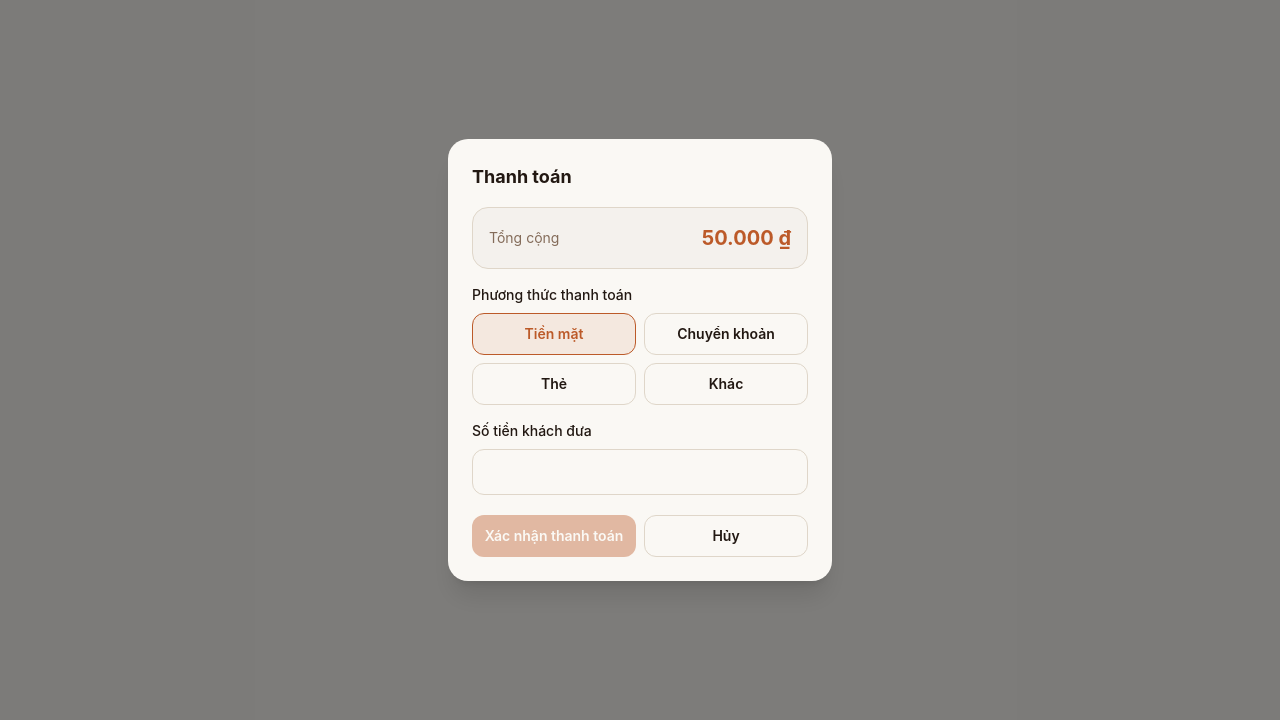
Test: PaymentModal – payment lifecycle (Task 2.10) › confirm button is enabled when cash tender >= orderTotal
The width and height of the screenshot is (1280, 720).
Step 1. Type "60000" into the number field → {"x": 640, "y": 472}, box [472,449,808,495]
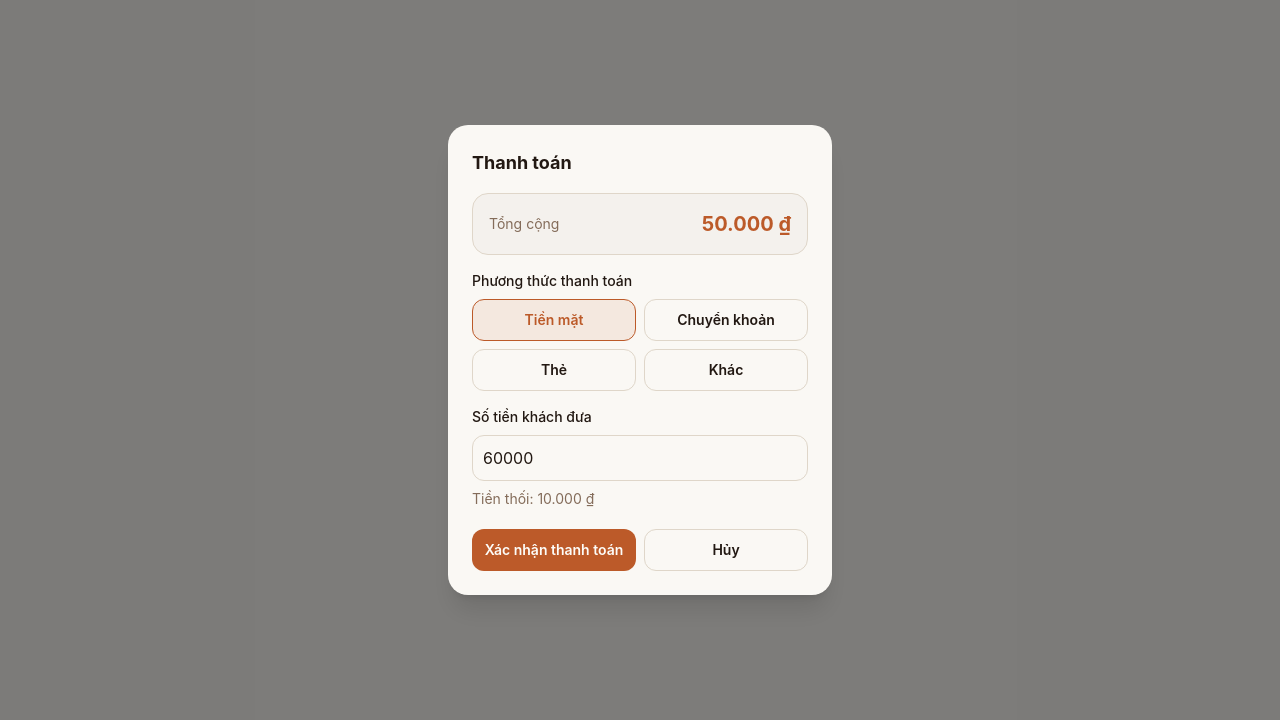
Now the button "Xác nhận thanh toán" is enabled, box [472,529,636,571]
